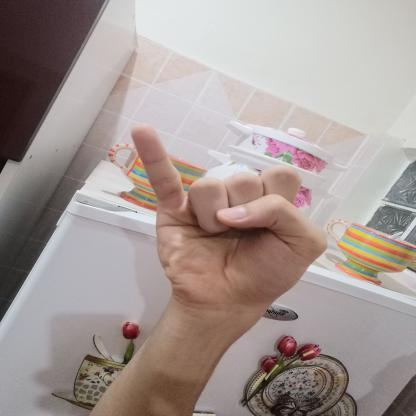MEEM: (111, 107, 346, 324)
